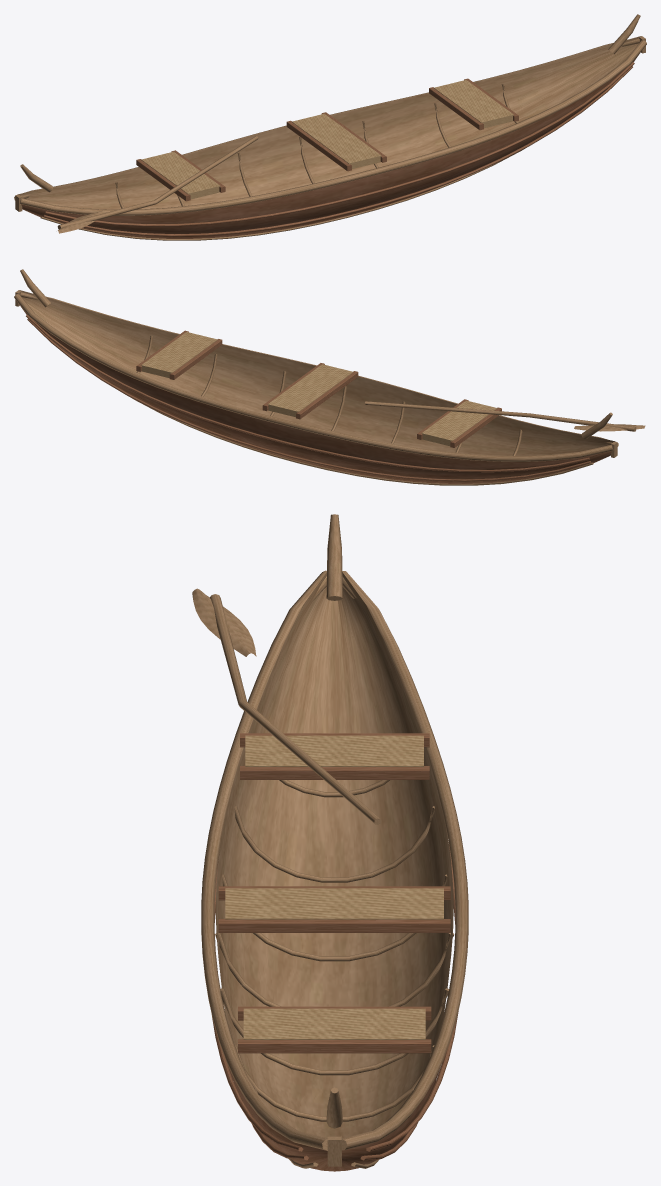
The model's file is cedar_canoe.glb.
3 views of the same model, one above another, from view 1: azimuth 30°, elevation 25°; view 2: azimuth 150°, elevation 25°; view 3: azimuth 270°, elevation 25° (orthographic). The views are drawn at different scales.
Parts seen in each view (by area): view 1: cedar_canoe; view 2: cedar_canoe; view 3: cedar_canoe.
Part boxes in pixels (bbox=[...]): cedar_canoe: bbox=[14, 14, 646, 240]; cedar_canoe: bbox=[14, 269, 645, 485]; cedar_canoe: bbox=[192, 514, 468, 1171].
Bounding box in the file's own units: 4.6 × 0.85 × 0.92.
Materials: 1 (1 with a texture image).
